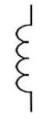inductor: (10, 15, 44, 97)
